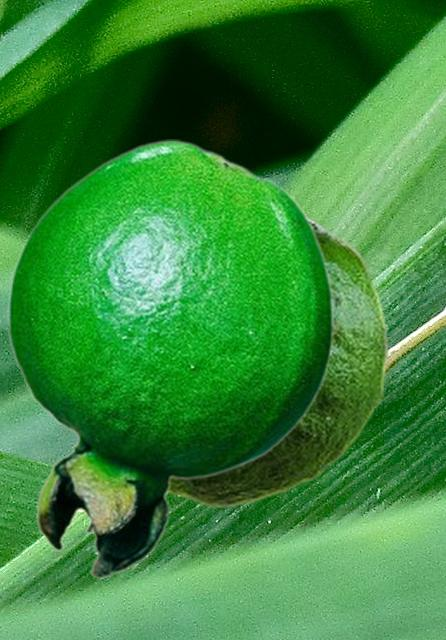guava: (6, 139, 334, 578), (168, 209, 389, 508)
